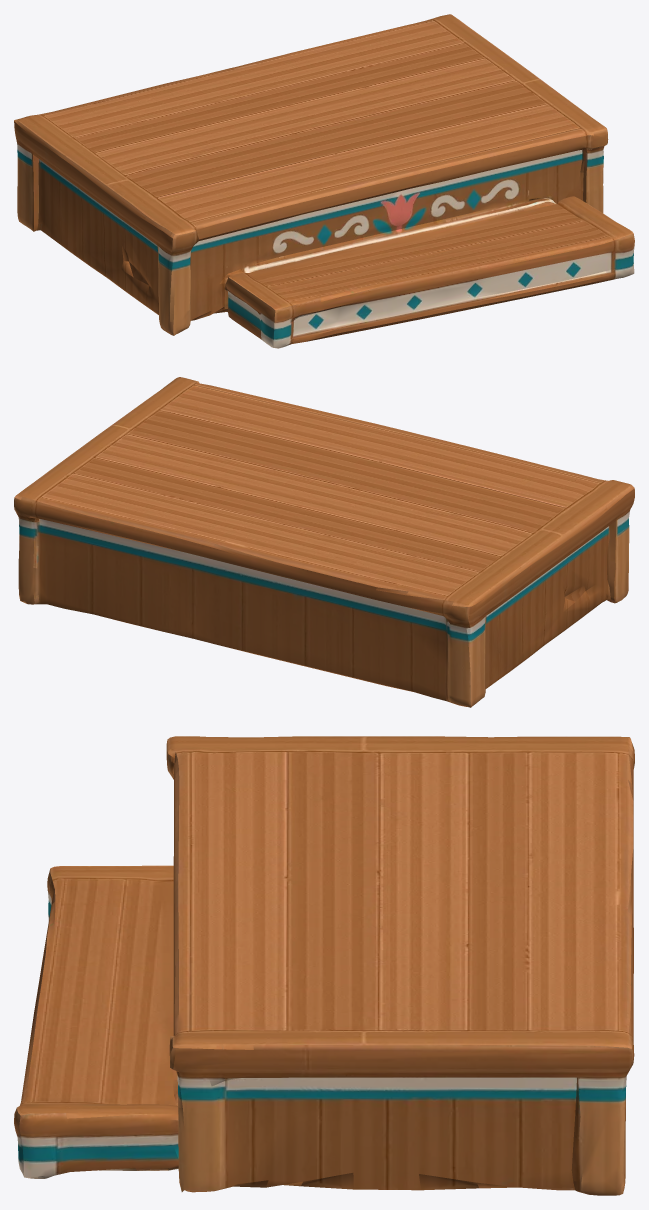
Rendered from kursu.glb.
3 views of the same model, one above another, from view 1: azimuth 30°, elevation 25°; view 2: azimuth 150°, elevation 25°; view 3: azimuth 270°, elevation 25° (orthographic). The views are drawn at different scales.
Parts seen in each view (by area): view 1: Mesh0; view 2: Mesh0; view 3: Mesh0.
Boxes of the visible parts, box(x1,y1,x2,y2) form: Mesh0: box(14, 14, 634, 348); Mesh0: box(14, 377, 634, 707); Mesh0: box(14, 736, 634, 1195).
Size of the model in its own units: 1.9 by 0.4485 by 1.6.
1 material, 1 textured.
